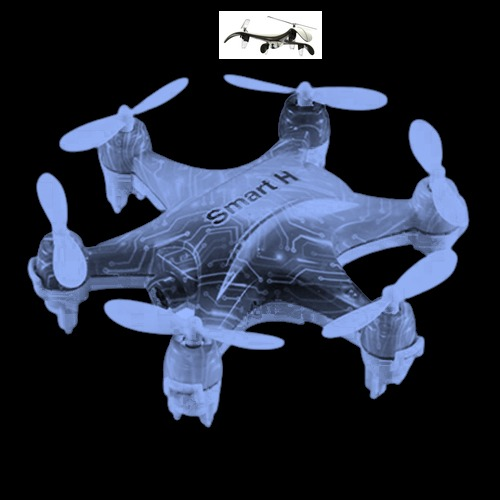drone: (28, 74, 471, 428), (219, 11, 322, 59)
